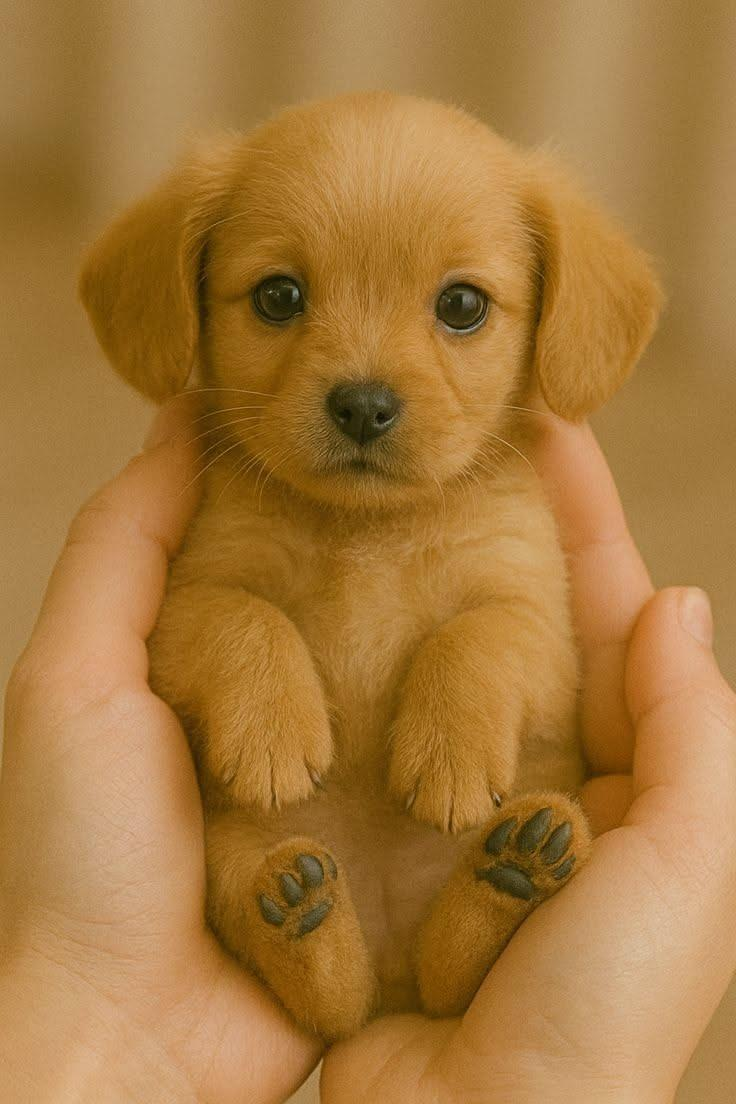puppy-dog: (78, 89, 669, 1046)
